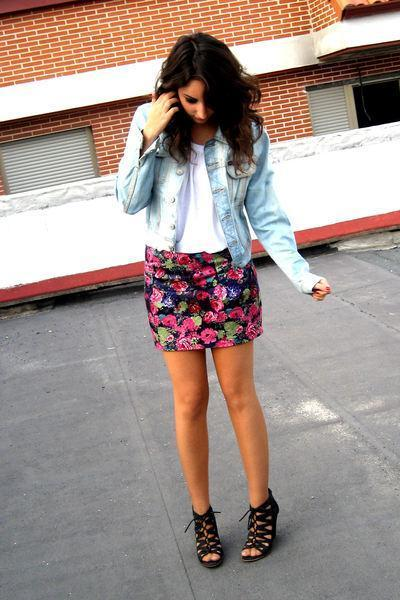jacket: (108, 108, 323, 290)
shirt: (180, 141, 234, 252)
shoe: (192, 492, 278, 580)
skirt: (122, 241, 262, 356)
